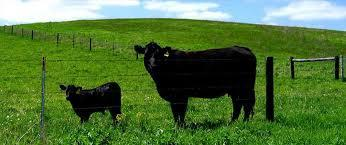cow: (136, 40, 258, 123), (58, 81, 123, 124)
